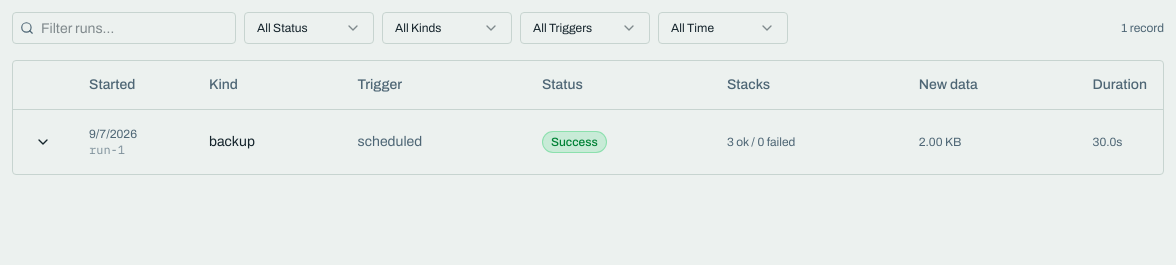
Scenario: BackupHistoryTab — expandable run rows › reports a failed run-detail fetch instead of showing an empty panel
Expected: the text "run-1" is shown, [89,142,125,156]
Step 1. Click the button named "Show details for run run-1" → point(43, 142), box [29,128,57,156]
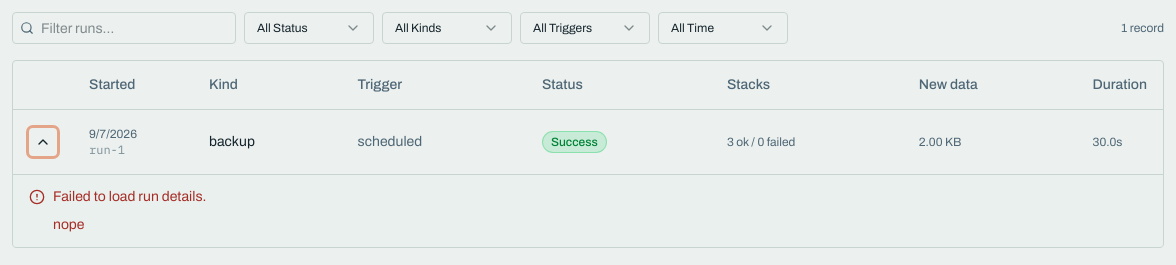
Result: the text "Failed to load run details." is shown at [29,188,206,204]
